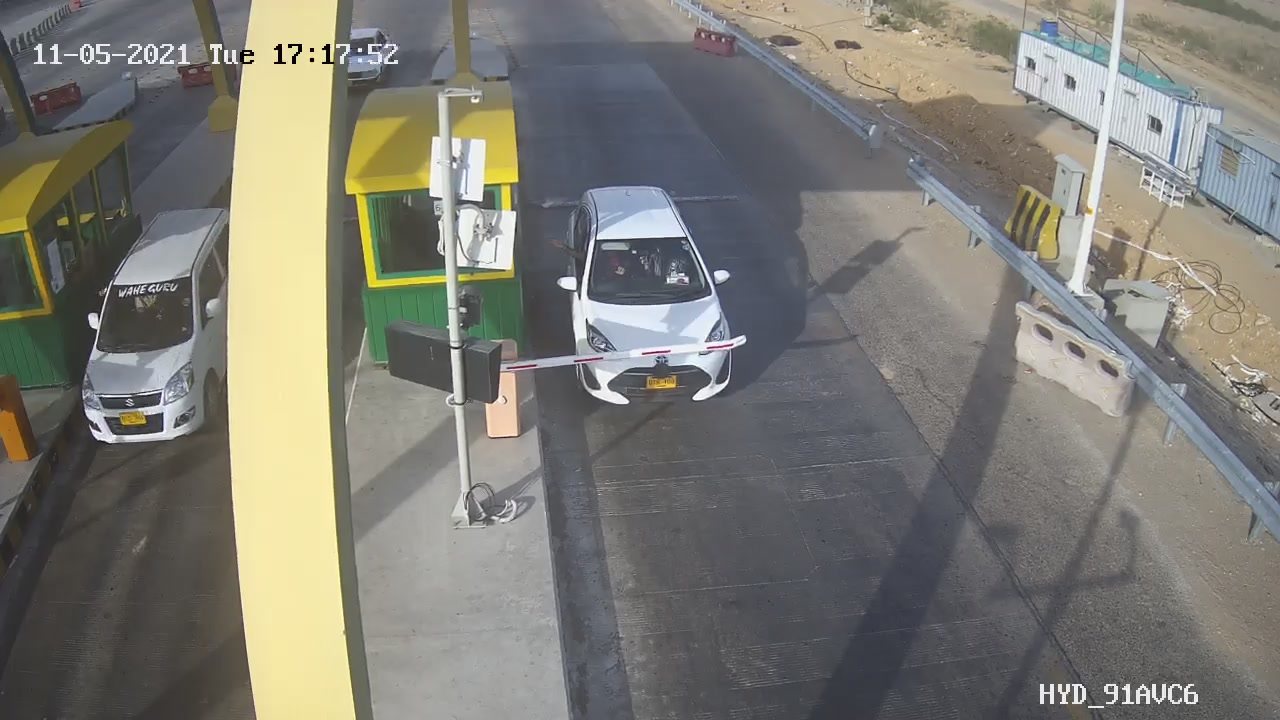F1: (540, 173, 753, 426)
